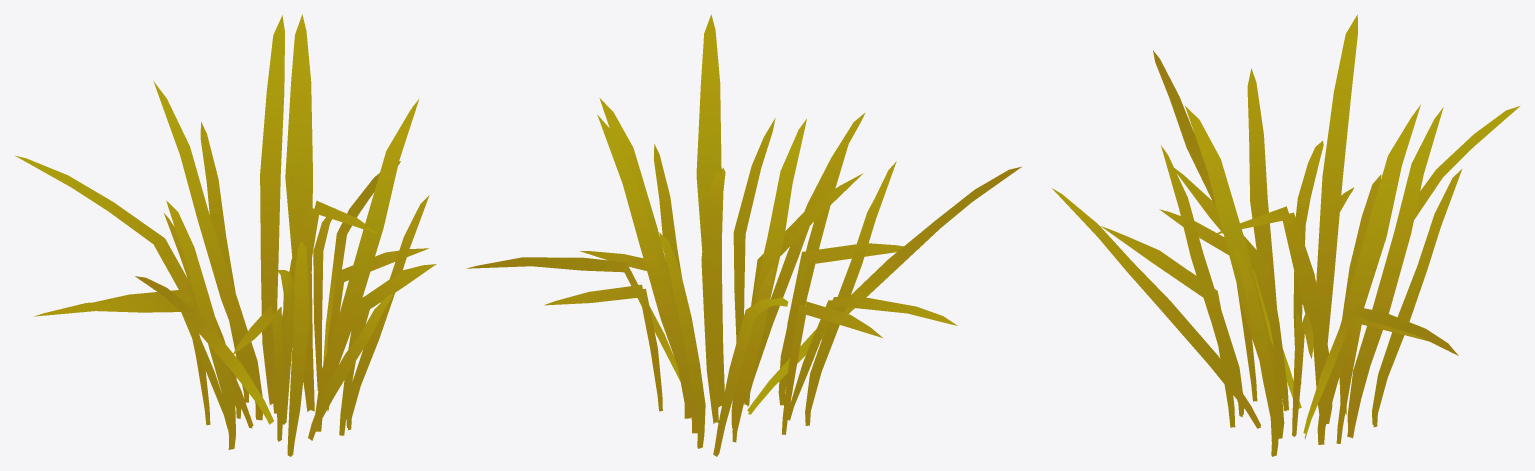
File: grass_wispy_short.gltf
The picture shows the model from 3 angles, left to right: view 1: azimuth 30°, elevation 25°; view 2: azimuth 150°, elevation 25°; view 3: azimuth 270°, elevation 25°; orthographic projection. The views are drawn at different scales.
Visible parts, largest first — view 1: grass_wispy_short; view 2: grass_wispy_short; view 3: grass_wispy_short.
Part boxes in pixels (x1,y1,x2,y2): grass_wispy_short: (15,14,436,456); grass_wispy_short: (466,14,1021,456); grass_wispy_short: (1052,14,1519,456).
Bounding box in the file's own units: 1.32 × 1.07 × 1.21.
Materials: 1 (1 with a texture image).
